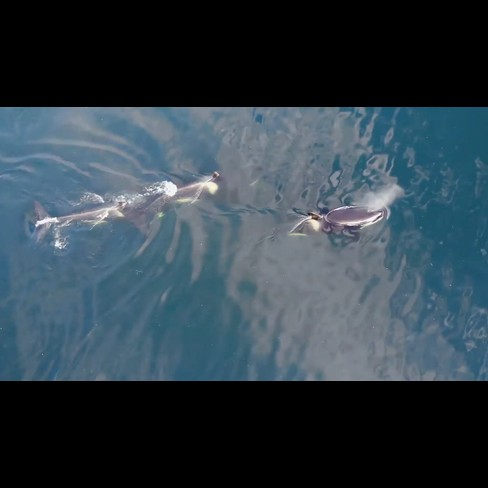orca: (20, 163, 277, 262), (267, 195, 401, 244)
